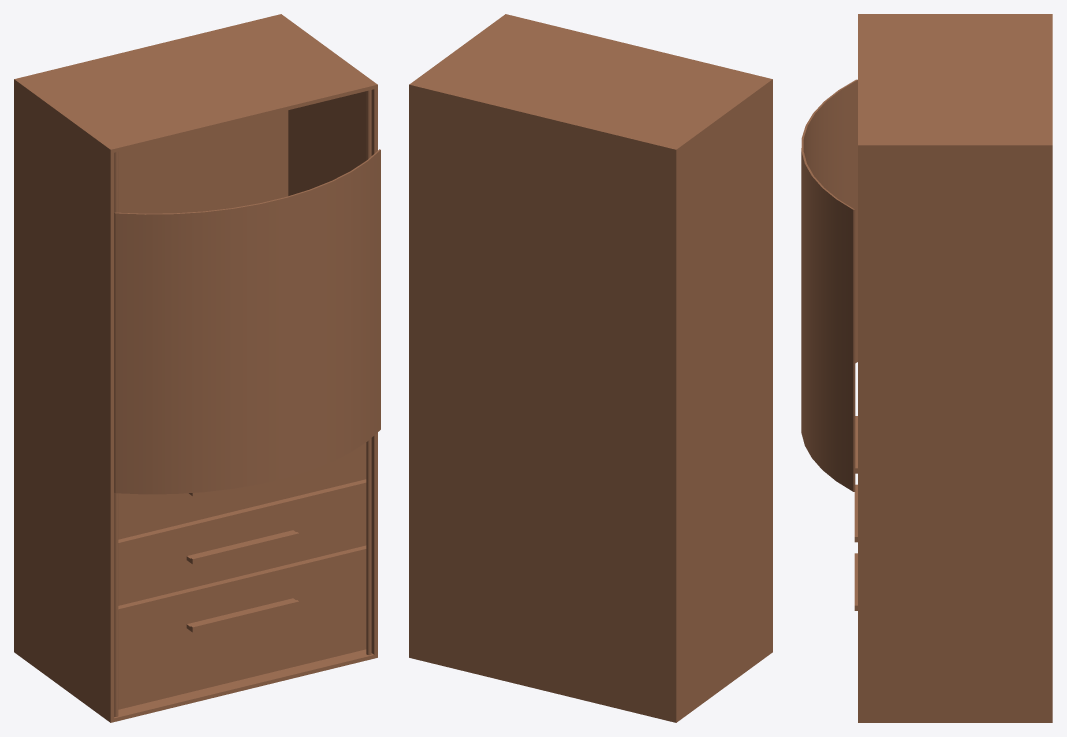
File: cabinet.dae
The picture shows the model from 3 angles, left to right: view 1: azimuth 30°, elevation 25°; view 2: azimuth 150°, elevation 25°; view 3: azimuth 270°, elevation 25°; orthographic projection.
Parts seen in each view (by area): view 1: cabinet; view 2: cabinet; view 3: cabinet.
Part boxes in pixels (x1,y1,x2,y2): cabinet: (14, 14, 380, 722); cabinet: (409, 14, 772, 722); cabinet: (801, 14, 1052, 722).
Size of the model in its own units: 0.2469 by 0.1989 by 0.5049.
